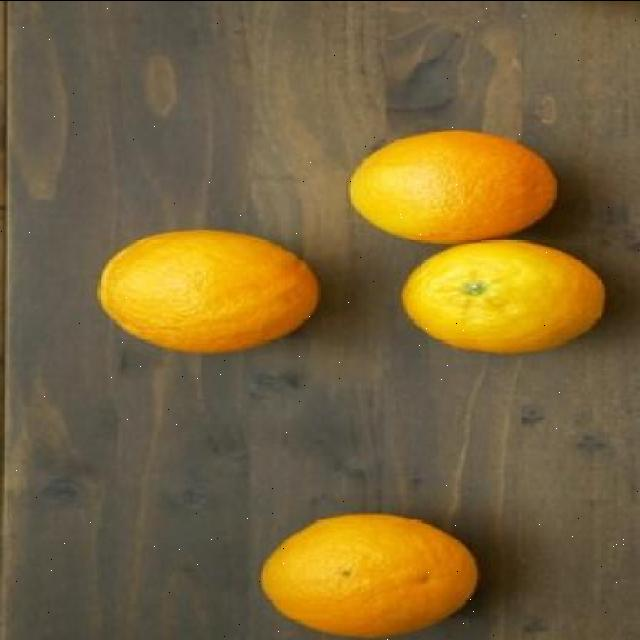Orange: (94, 228, 320, 356), (256, 512, 478, 640), (346, 129, 558, 245), (398, 238, 606, 356)
